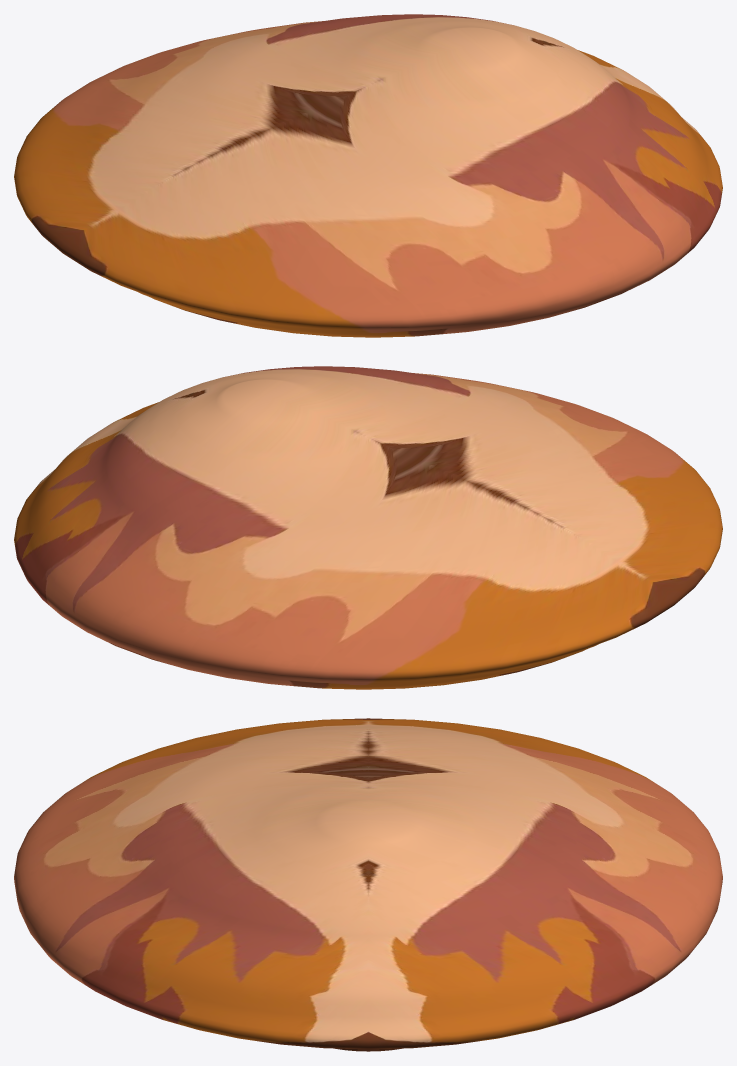
File: offshore_boulder.glb
The picture shows the model from 3 angles, top to bottom: view 1: azimuth 30°, elevation 25°; view 2: azimuth 150°, elevation 25°; view 3: azimuth 270°, elevation 25°; orthographic projection.
Visible parts, largest first — view 1: offshore_boulder; view 2: offshore_boulder; view 3: offshore_boulder.
Boxes of the visible parts, x1,y1,x2,y2 form: offshore_boulder: [14, 14, 722, 337]; offshore_boulder: [14, 366, 722, 689]; offshore_boulder: [14, 718, 722, 1051].
Bounding box in the file's own units: 0.9799 × 0.3159 × 0.9617.
Materials: 1 (1 with a texture image).
